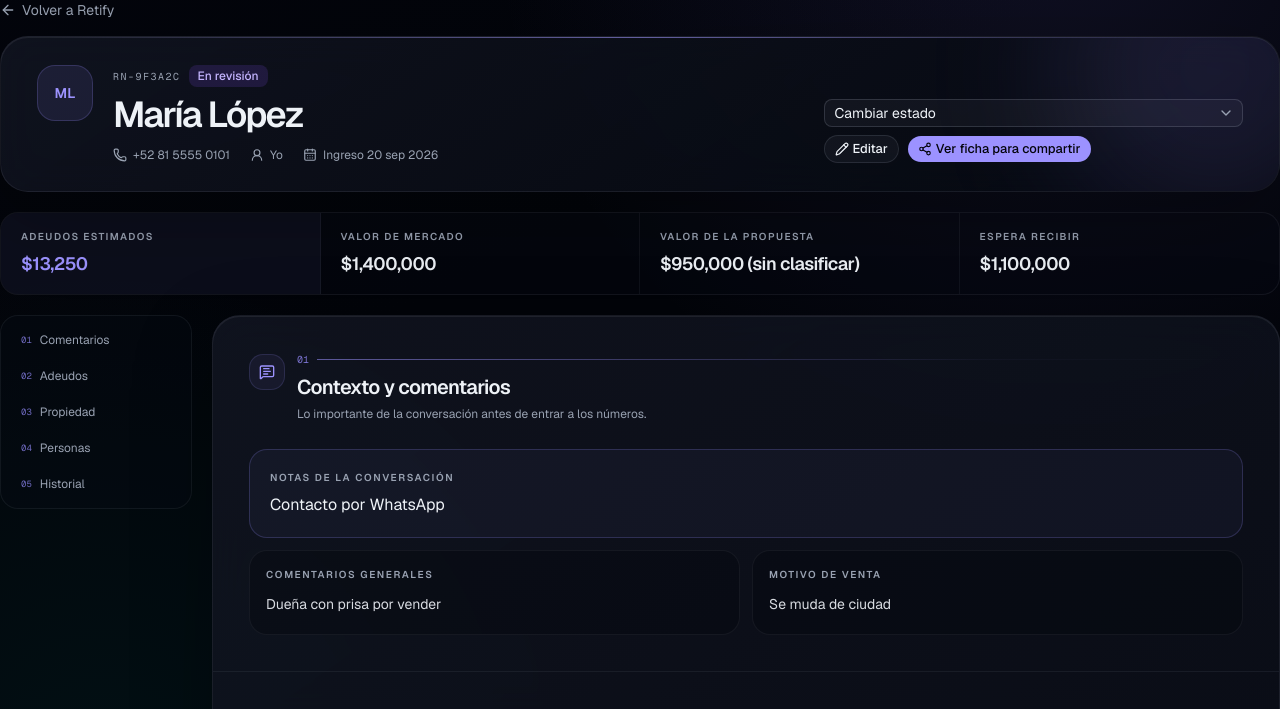
RenovaCaseDetail — actions › Ver ficha para compartir opens the share card for this case
Check: the heading "María López" is shown, box [113, 91, 303, 138]
Click the button "Ver ficha para compartir" at (999, 149), box [907, 135, 1092, 163]
(page scrolled)
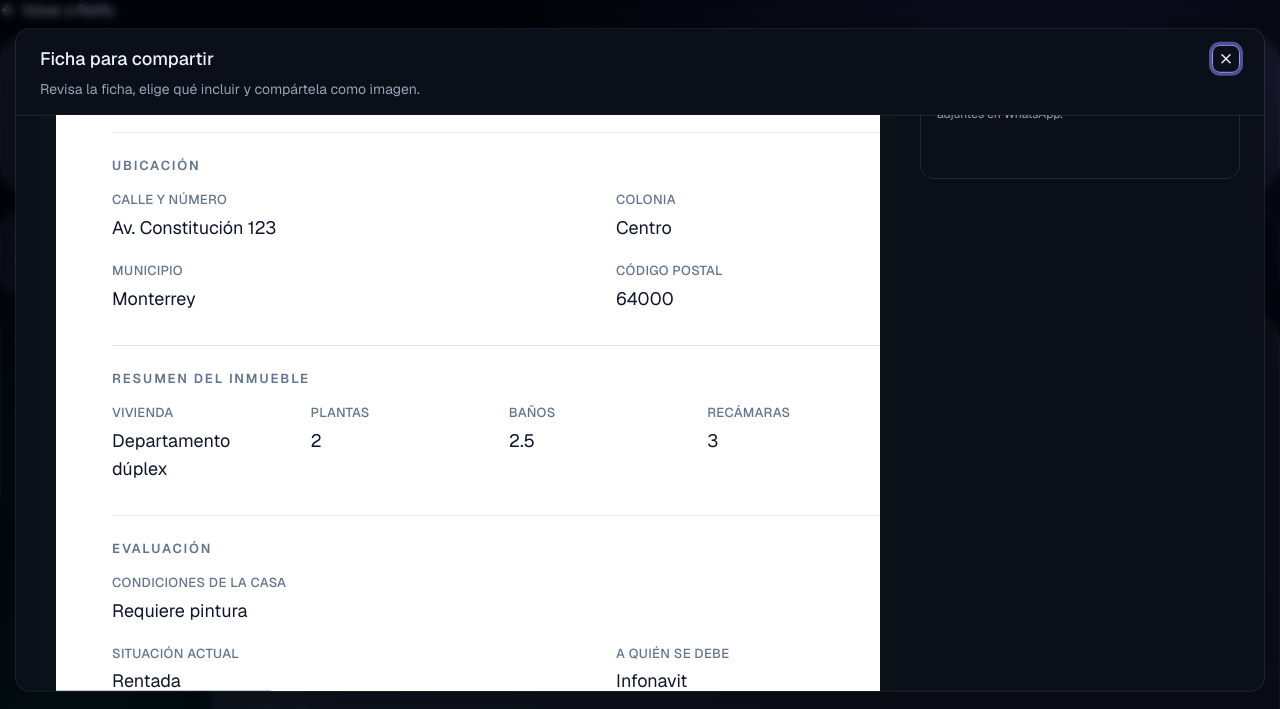
Check: the heading "Ficha para compartir" is shown, box [40, 47, 214, 70]
